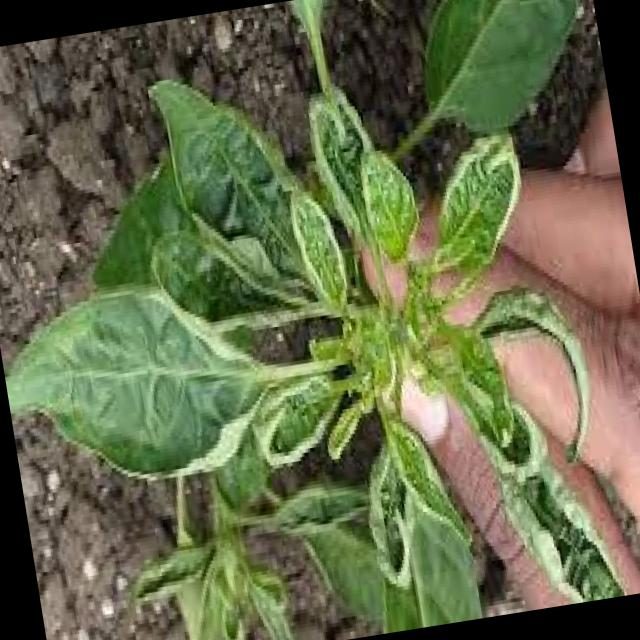Chilli_Leaf_Curl: (0, 0, 640, 640), (405, 0, 605, 142)
